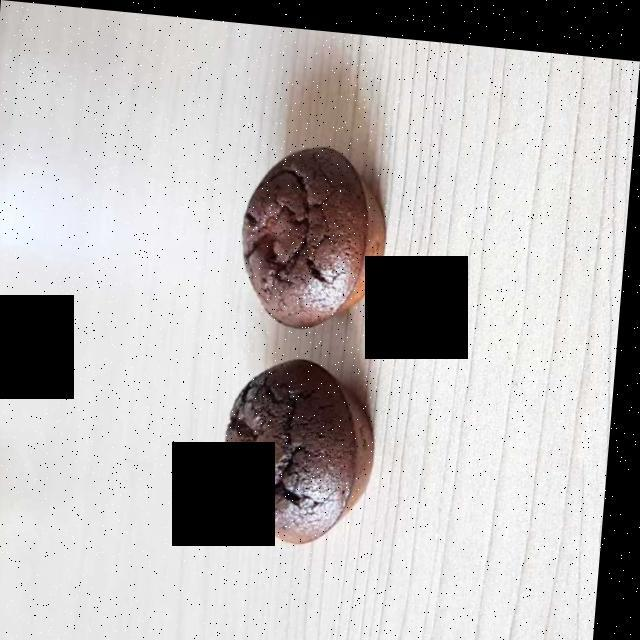muffin: (229, 145, 382, 526)
